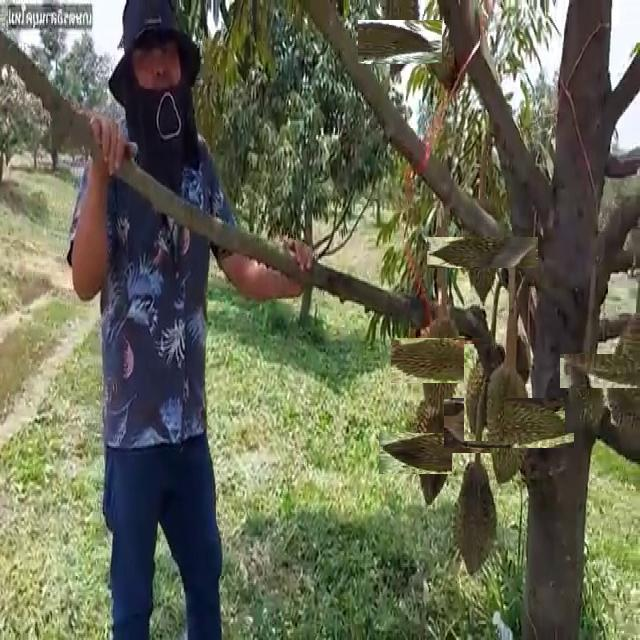durian: (464, 378, 554, 469), (452, 453, 502, 579), (396, 414, 474, 492), (404, 324, 477, 396), (447, 217, 518, 288), (584, 331, 640, 411), (368, 10, 432, 75), (464, 344, 504, 441), (565, 352, 610, 434)
